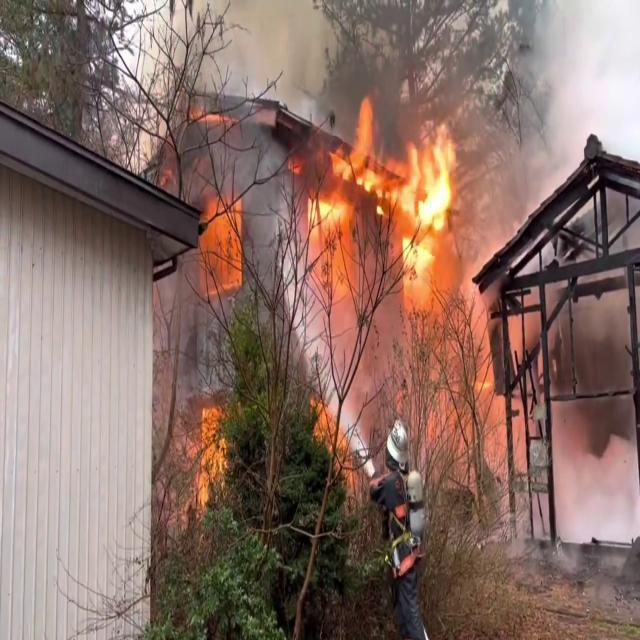Fire: (305, 94, 469, 302), (185, 393, 235, 522)
